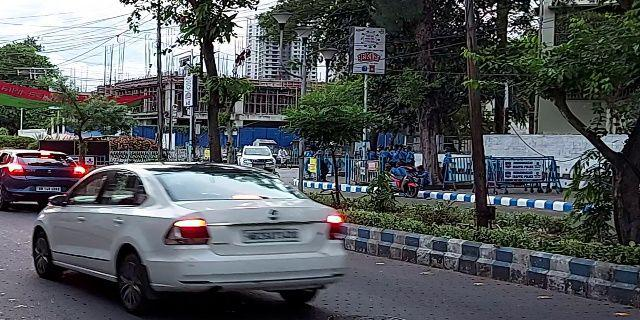Car: (33, 157, 354, 310), (2, 147, 86, 214)
